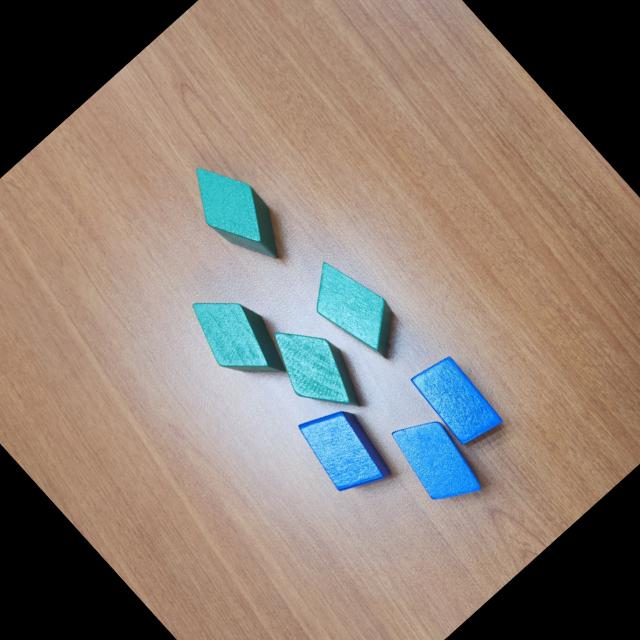blue: (289, 392, 402, 508), (381, 402, 492, 516), (406, 349, 506, 453)
green: (172, 146, 298, 278), (178, 275, 301, 402), (255, 306, 377, 432), (296, 248, 416, 372)
